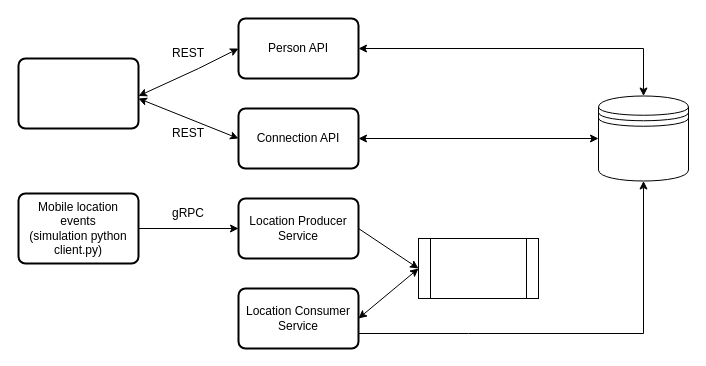
This 706x366 diagram has some shape labels left out. Here are the shapes that lost their labels. From the top down, the centre of each, then its label:
(78,93): Web App/ Postman
(643,138): Postgres DB
(478,268): Kafka
